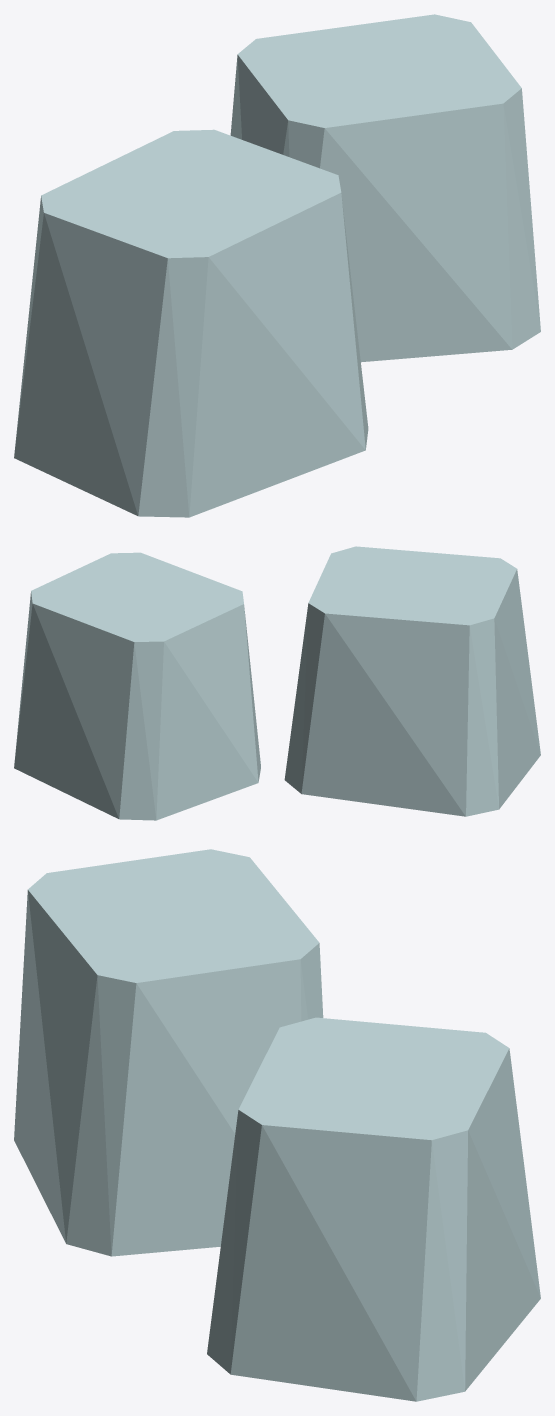
File: SM_Cook_TeaIce_01.fbx
3 renders of one model, top to bottom at view 1: azimuth 30°, elevation 25°; view 2: azimuth 150°, elevation 25°; view 3: azimuth 270°, elevation 25°, orthographic. The views are drawn at different scales.
Visible parts, largest first — view 1: SM_Cook_TeaIce_01; view 2: SM_Cook_TeaIce_01; view 3: SM_Cook_TeaIce_01.
Part boxes in pixels (x1,y1,x2,y2): SM_Cook_TeaIce_01: (14, 14, 540, 517); SM_Cook_TeaIce_01: (14, 546, 540, 820); SM_Cook_TeaIce_01: (14, 849, 540, 1401).
Bounding box in the file's own units: 0.0387 × 0.016 × 0.0289.
1 material, 1 textured.
